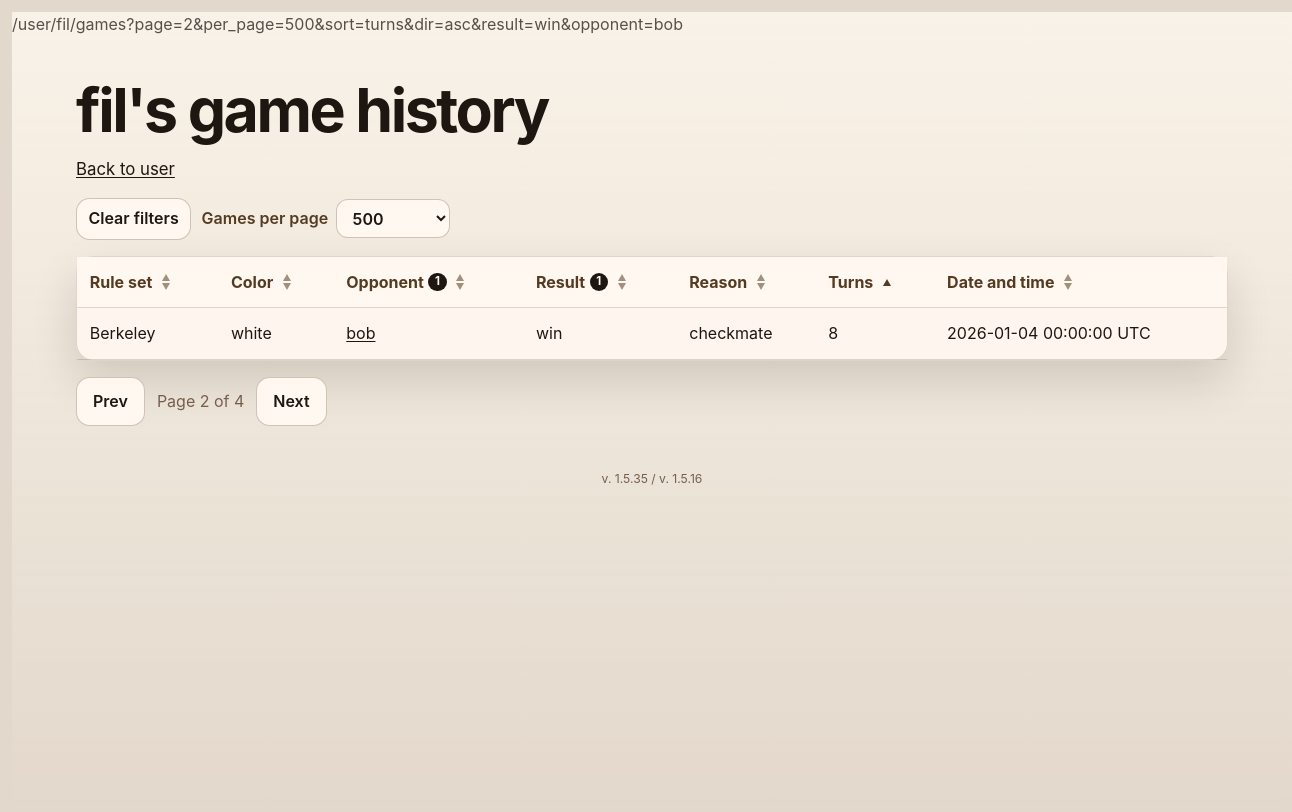
Test case: GameHistoryPage › loads_sort_filters_page_and_page_size_from_the_url
Expected: the text with test id "location" shows "opponent=bob", [126,14,683,34]
Expected: the text with test id "location" does not show "human%3A", [12,14,683,34]
Step 1. Click the button "Opponent 1" → coordinates (397, 282), box [346,270,447,294]
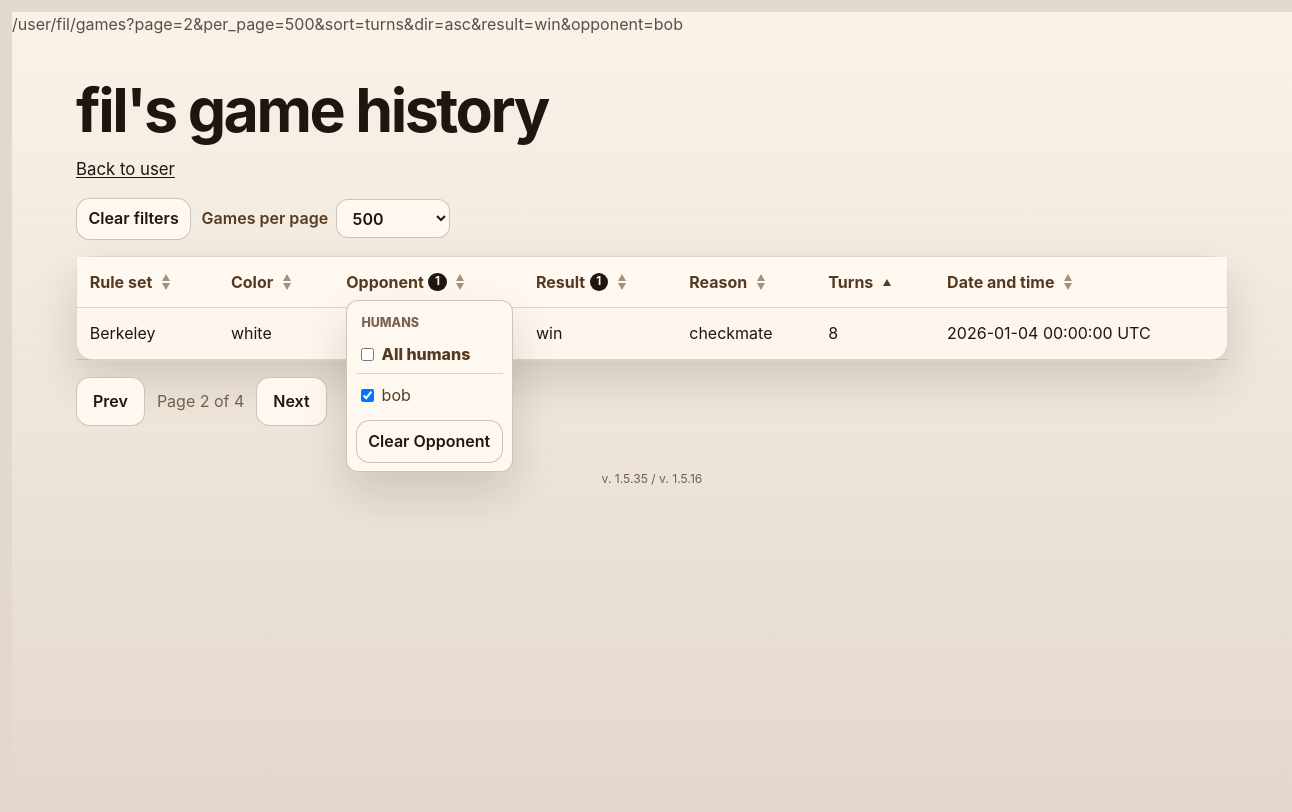
Now the text "bob" is shown, box [361,385,411,405]
Now the checkbox labelled "bob" is checked, box [361,389,374,402]
